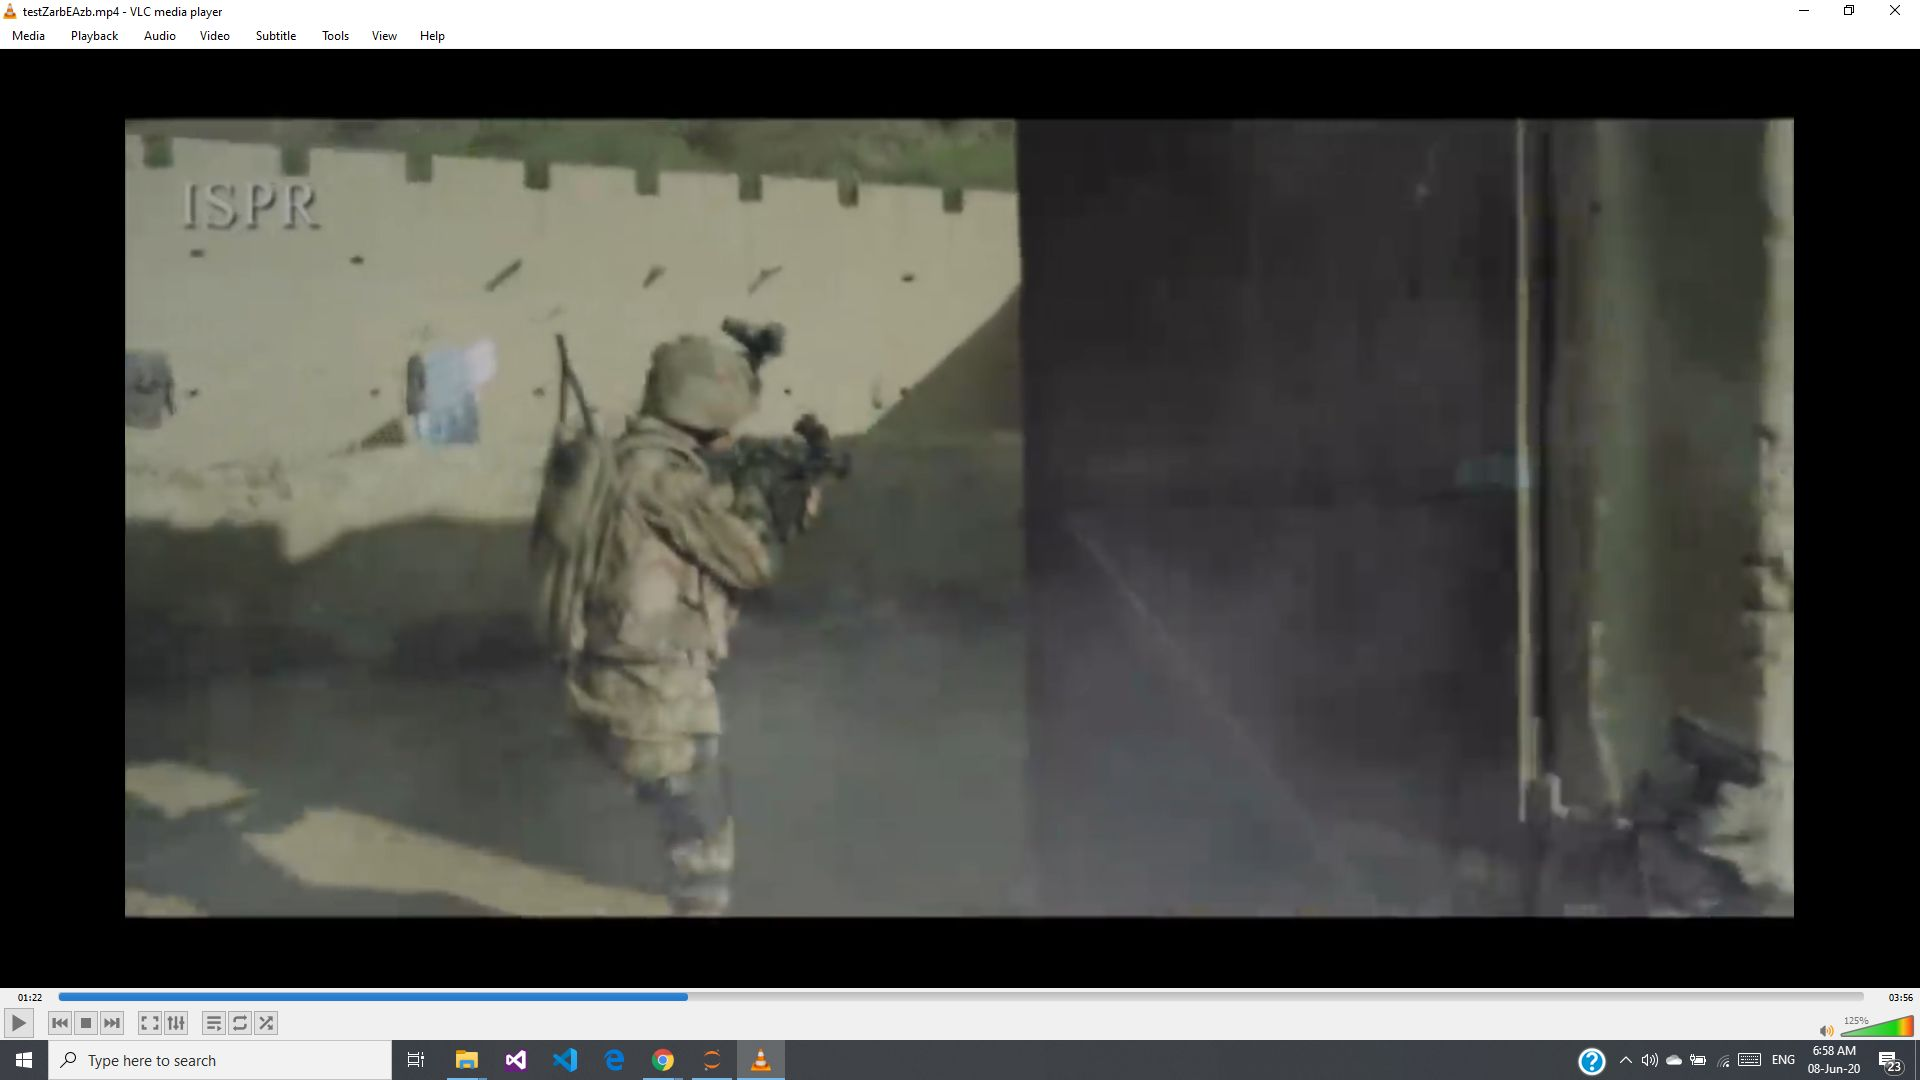gun: (695, 405, 855, 534)
uniform: (566, 319, 760, 884)
